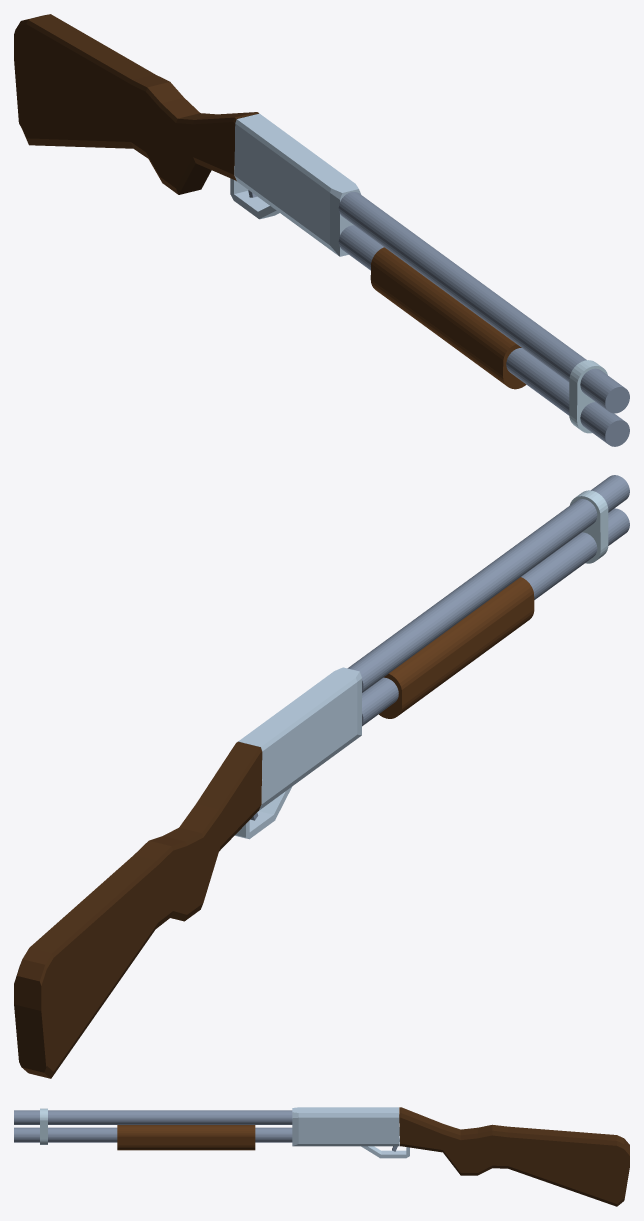
The model's file is shotgun_3d.glb.
The picture shows the model from 3 angles, top to bottom: view 1: azimuth 30°, elevation 25°; view 2: azimuth 150°, elevation 25°; view 3: azimuth 270°, elevation 25°; orthographic projection. The views are drawn at different scales.
Visible parts, largest first — view 1: Cube, Cylinder, Cube.005, Cylinder.003, Cylinder.001, Cylinder.002; view 2: Cube, Cylinder, Cube.005, Cylinder.003, Cylinder.001, Cylinder.002; view 3: Cube, Cube.005, Cylinder, Cylinder.003, Cylinder.001, Cylinder.002, Cube.001.
Boxes of the visible parts, x1,y1,x2,y2 form: Cube: (14,14,258,194); Cylinder: (338,192,629,413); Cube.005: (234,113,360,256); Cylinder.003: (370,247,526,389); Cylinder.001: (338,225,629,446); Cylinder.002: (569,360,607,433); Cube: (14,741,262,1078); Cylinder: (347,475,629,692); Cube.005: (238,667,361,810); Cylinder.003: (379,577,534,718); Cylinder.001: (362,508,629,726); Cylinder.002: (569,490,608,563); Cube: (399,1107,629,1206); Cube.005: (292,1107,399,1146); Cylinder: (14,1110,292,1124); Cylinder.003: (117,1125,255,1150); Cylinder.001: (14,1127,292,1142); Cylinder.002: (40,1108,47,1144); Cube.001: (379,1150,408,1158).
Size of the model in its own units: 0.1234 by 0.6786 by 4.01.
